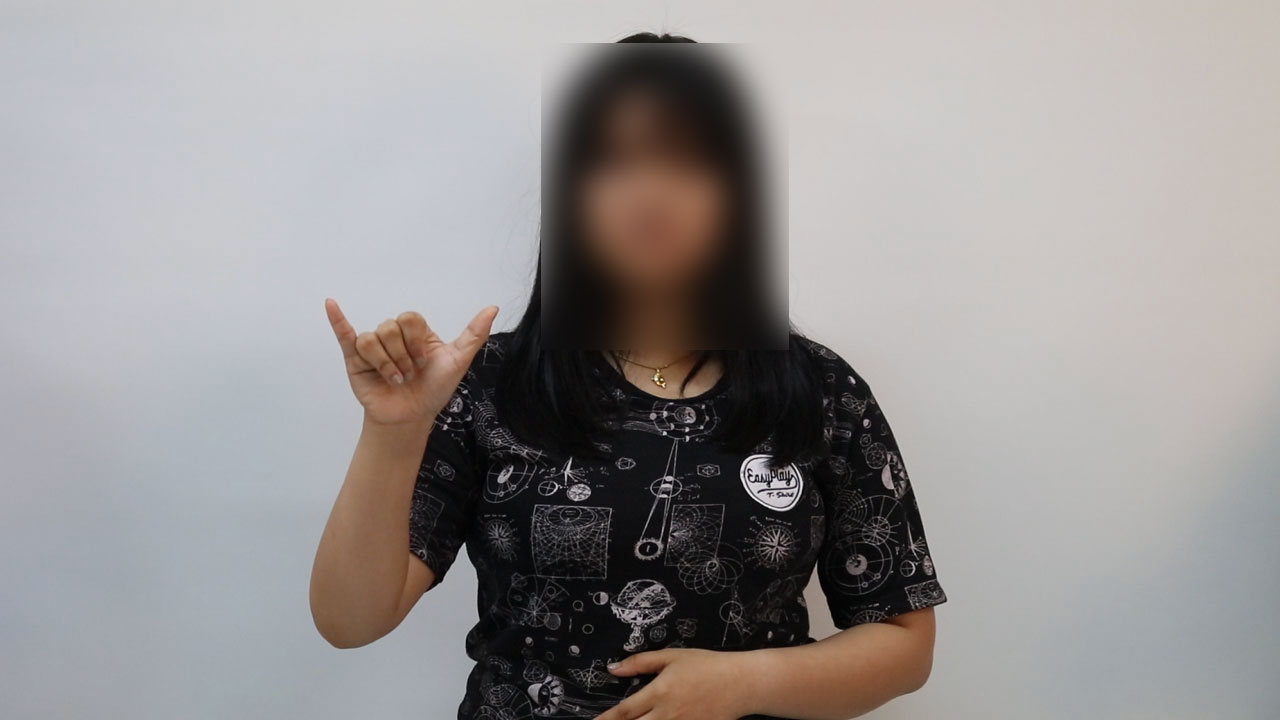yor: (313, 286, 506, 437)
